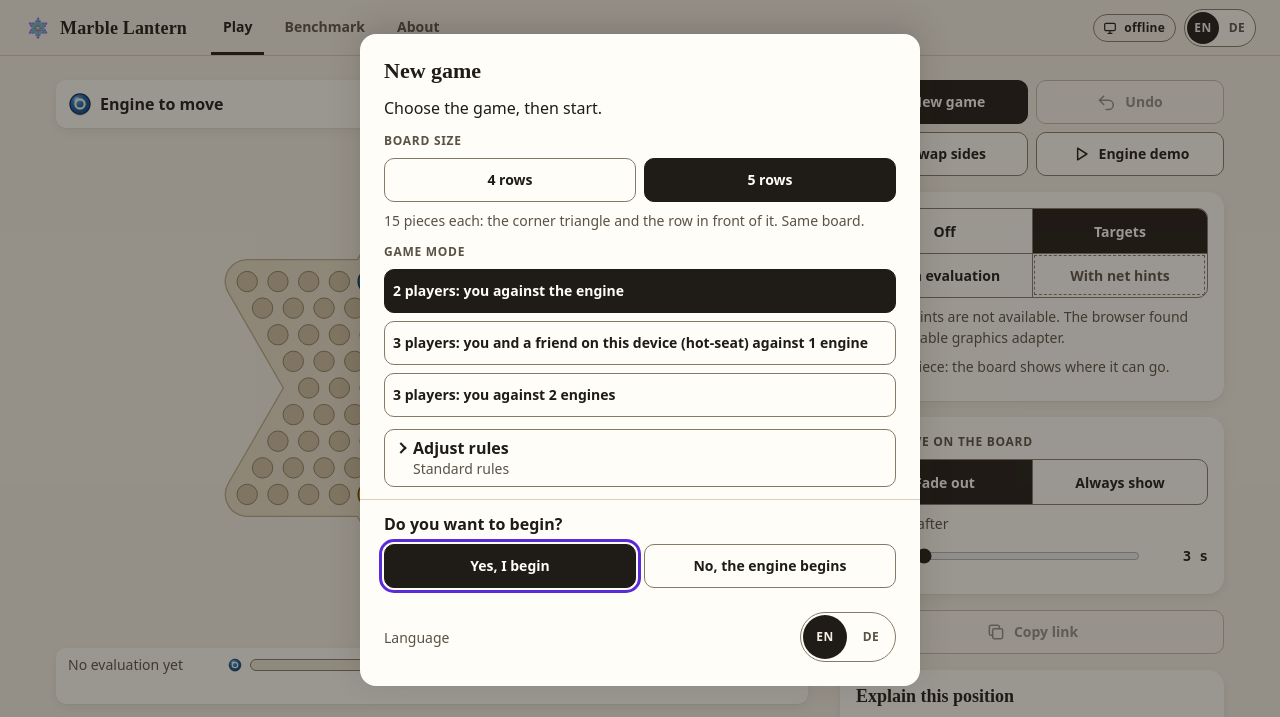
Test case: move guides in the app › default is the level "targets": no marks, but the advantage strip is there and gets its value
Click the button "No, the engine begins": (770,566) [644, 544, 896, 588]
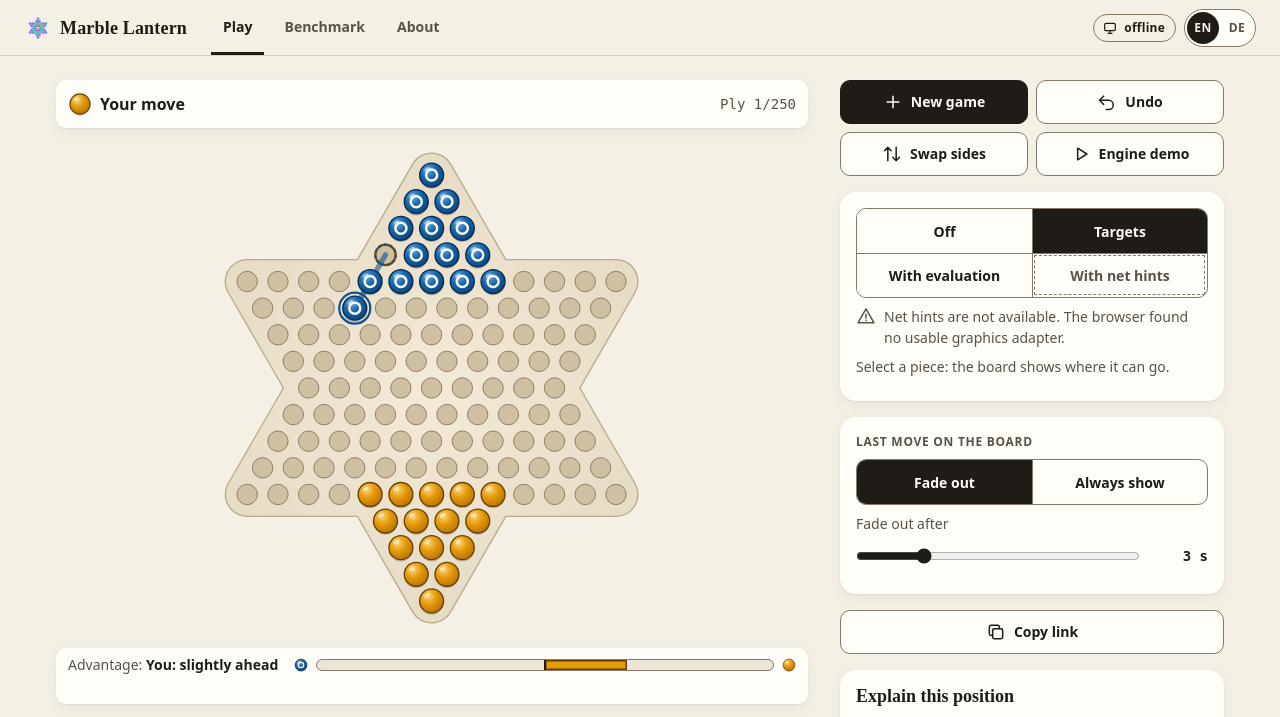
Expected: the element with class "ml-advantage" is shown, [68, 656, 796, 674]
Expected: the element with class "ml-advantage__text" reads "Advantage: You: slightly ahead", [68, 656, 278, 674]
